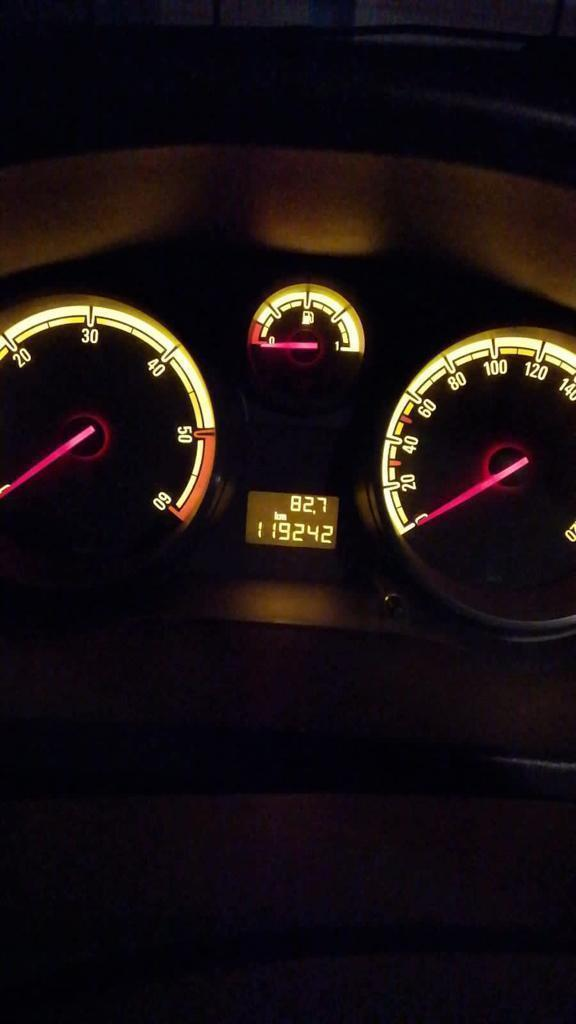,: (312, 508, 317, 515)
1: (256, 520, 263, 540), (271, 521, 276, 541)
2: (321, 524, 334, 545), (301, 494, 314, 513), (292, 522, 304, 541)
4: (306, 523, 319, 542)
7: (316, 496, 328, 513)
8: (289, 494, 301, 512)
9: (278, 521, 290, 540)
X: (279, 513, 288, 520), (274, 510, 278, 520)
odometer: (243, 488, 342, 550)
